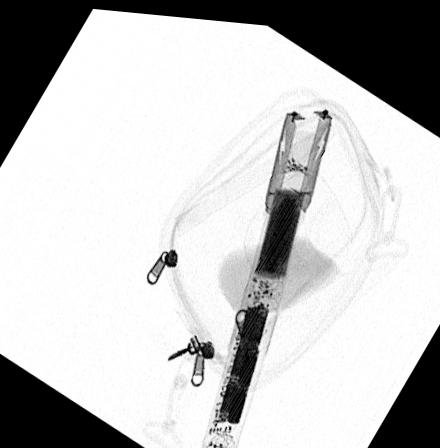Baton: (198, 101, 336, 448)
